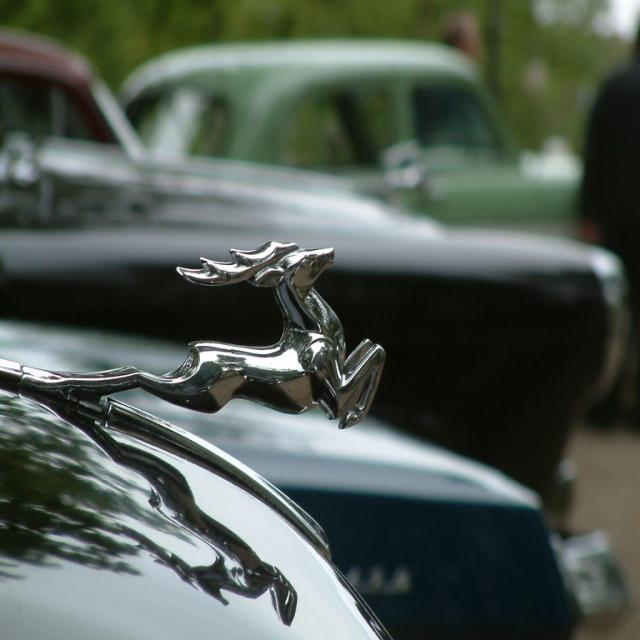car: (4, 354, 629, 639)
